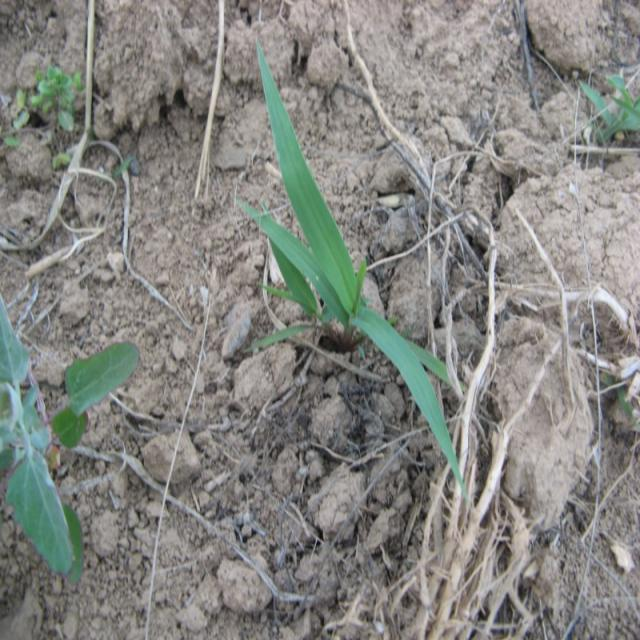bg: (238, 36, 468, 494)
